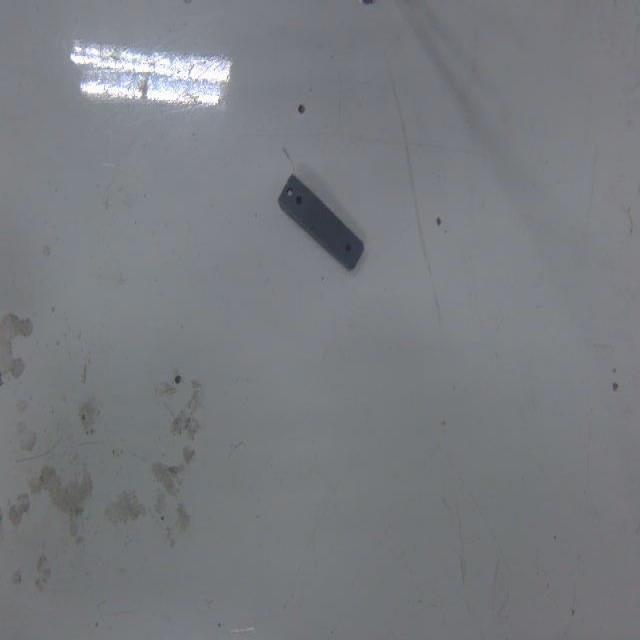grey: (279, 173, 365, 286)
head: (343, 238, 355, 258)
